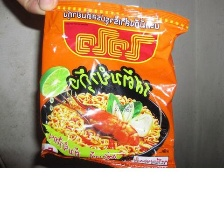snack: (28, 0, 195, 167)
